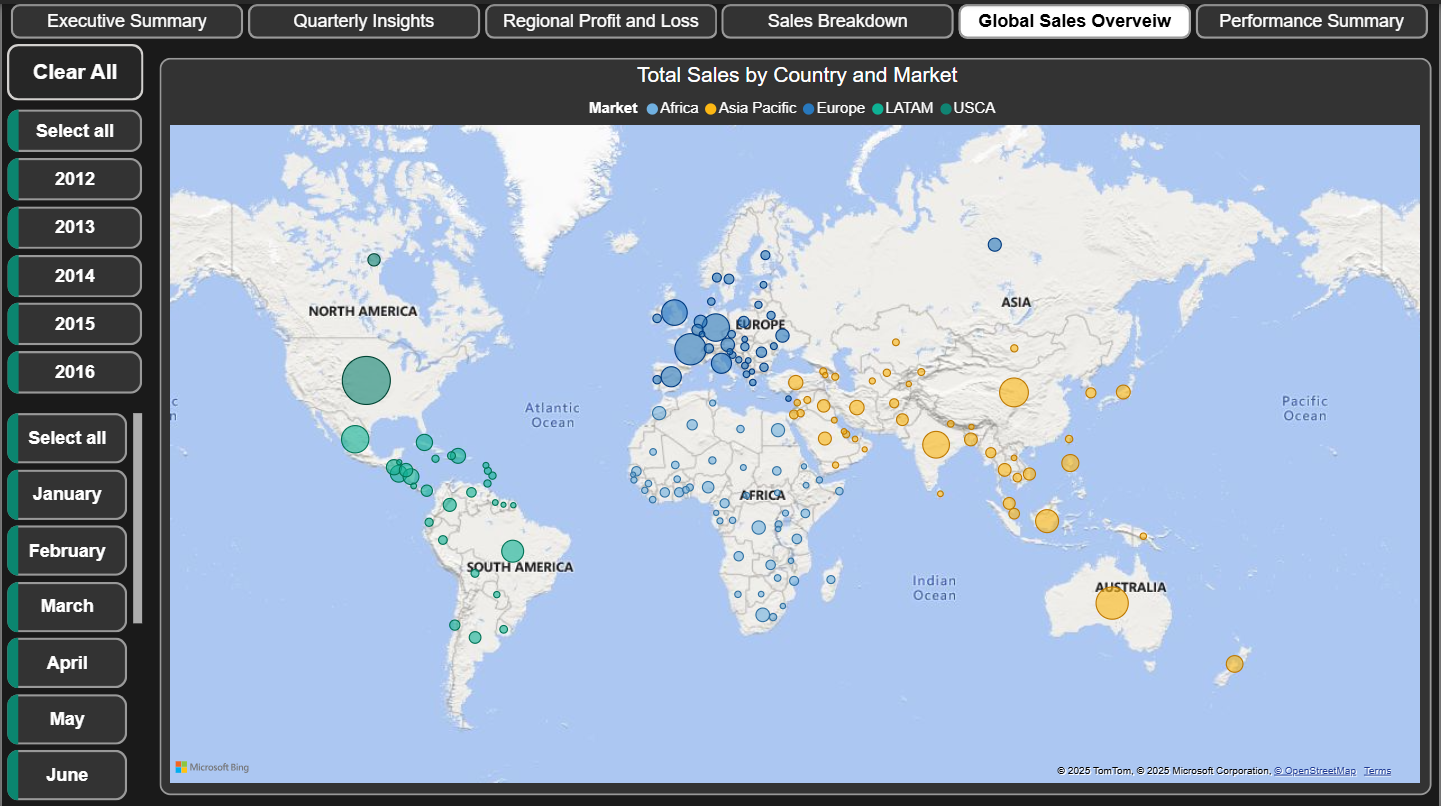

The dashboard page shown, as its layout file describes it:
{"tool":"powerbi","page":{"name":"Global Sales Overveiw","canvas":[1280,720],"ordinal":4},"visuals":[{"type":"pageNavigator","box":[8.1,0,1263.8,31.9],"z":0},{"type":"actionButton","box":[4.9,35.6,121.5,50.3],"z":1000},{"type":"advancedSlicerVisual","fields":{"Values":["Dim_Date.Year"]},"box":[0,89.6,130.1,263.8],"z":2000},{"type":"advancedSlicerVisual","fields":{"Values":["Dim_Date.Date.Variation.Date Hierarchy.Month"]},"box":[0,359.5,130.1,357.1],"z":3000},{"type":"map","fields":{"Category":["Dim_Customers.Region","Dim_Customers.Country","Dim_Customers.State","Dim_Customers.City"],"Series":["Dim_Customers.Market"],"Size":["_Measures.Total Sales"]},"box":[139.9,47.9,1132.5,656.4],"z":4000}]}

Visuals, with their boxes on the page's 1280x720 design canvas (x1, y1, x2, y2). These are canvas units, not pixel positions in the 1441x806 screenshot, which may show the page scaled, cropped or inside an application window:
pageNavigator: 8/0/1272/32
actionButton: 5/36/126/86
advancedSlicerVisual - Dim_Date.Year: 0/90/130/353
advancedSlicerVisual - Dim_Date.Date.Variation.Date Hierarchy.Month: 0/360/130/717
map - Dim_Customers.Region x Dim_Customers.Country: 140/48/1272/704
